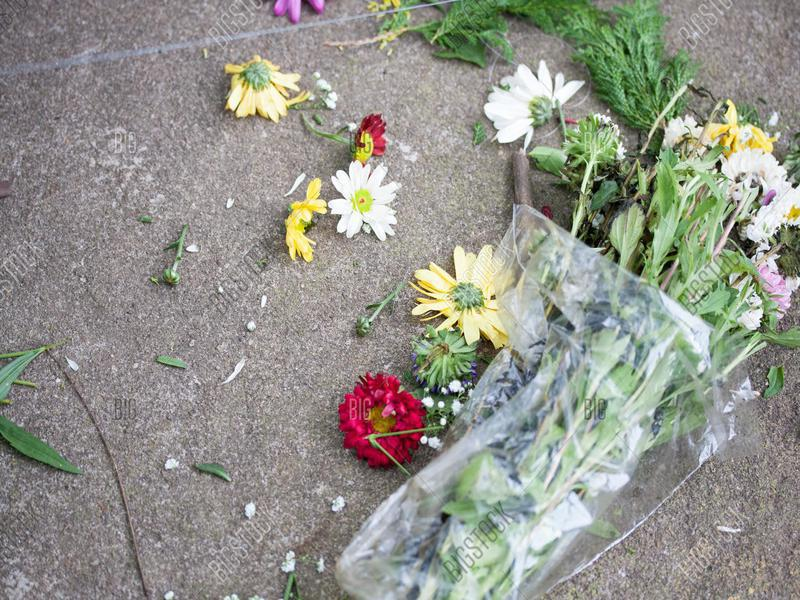flowers: (481, 53, 800, 325), (328, 241, 527, 471), (212, 50, 406, 269)
